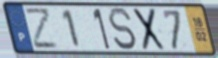1: (92, 8, 112, 51), (62, 9, 83, 49)
7: (162, 9, 183, 51)
S: (106, 7, 139, 52)
X: (132, 7, 167, 52)
Z: (24, 6, 60, 50)
